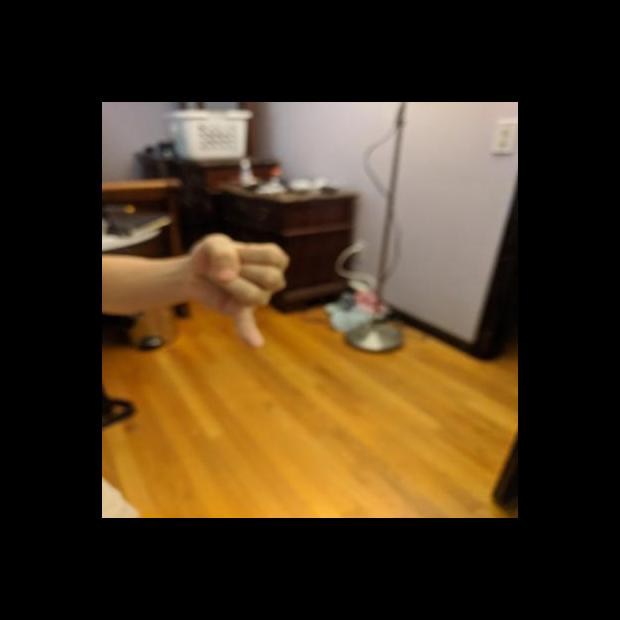I: (191, 230, 296, 353)
